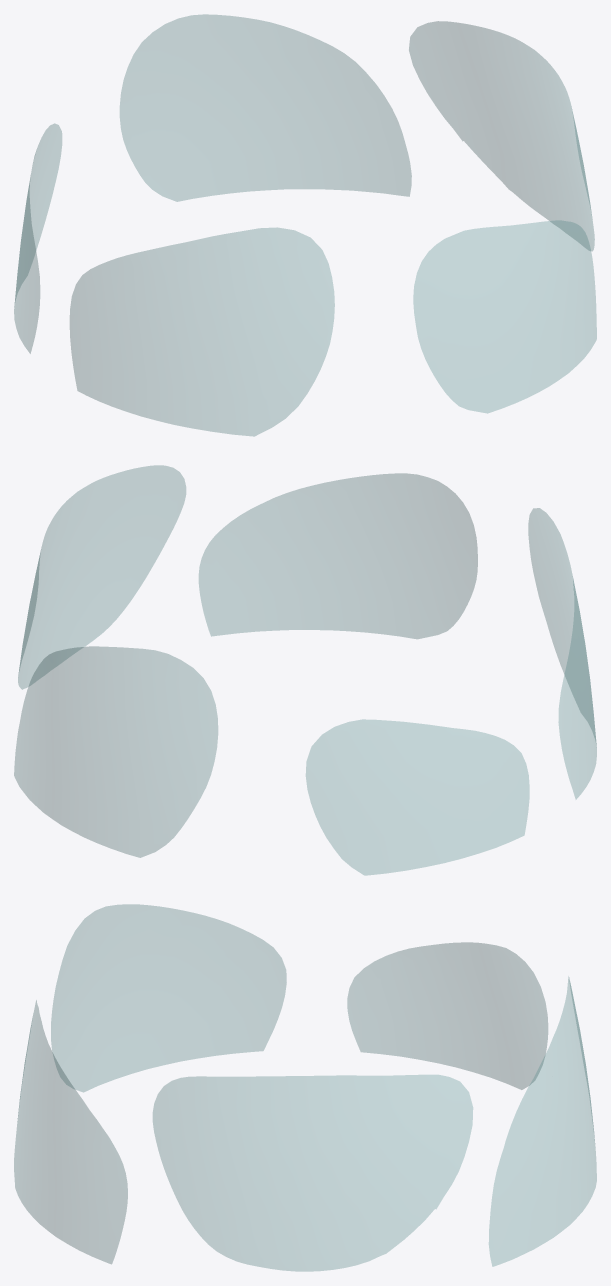
File: Test_allGlass.fbx
3 renders of one model, top to bottom at view 1: azimuth 30°, elevation 25°; view 2: azimuth 150°, elevation 25°; view 3: azimuth 270°, elevation 25°, orthographic.
Visible parts, largest first — view 1: SmartCombine_6; view 2: SmartCombine_6; view 3: SmartCombine_6.
Boxes of the visible parts, x1,y1,x2,y2 form: SmartCombine_6: (14,14,596,436); SmartCombine_6: (14,465,596,875); SmartCombine_6: (14,904,596,1271).
Bounding box in the file's own units: 794 × 314 × 804.
